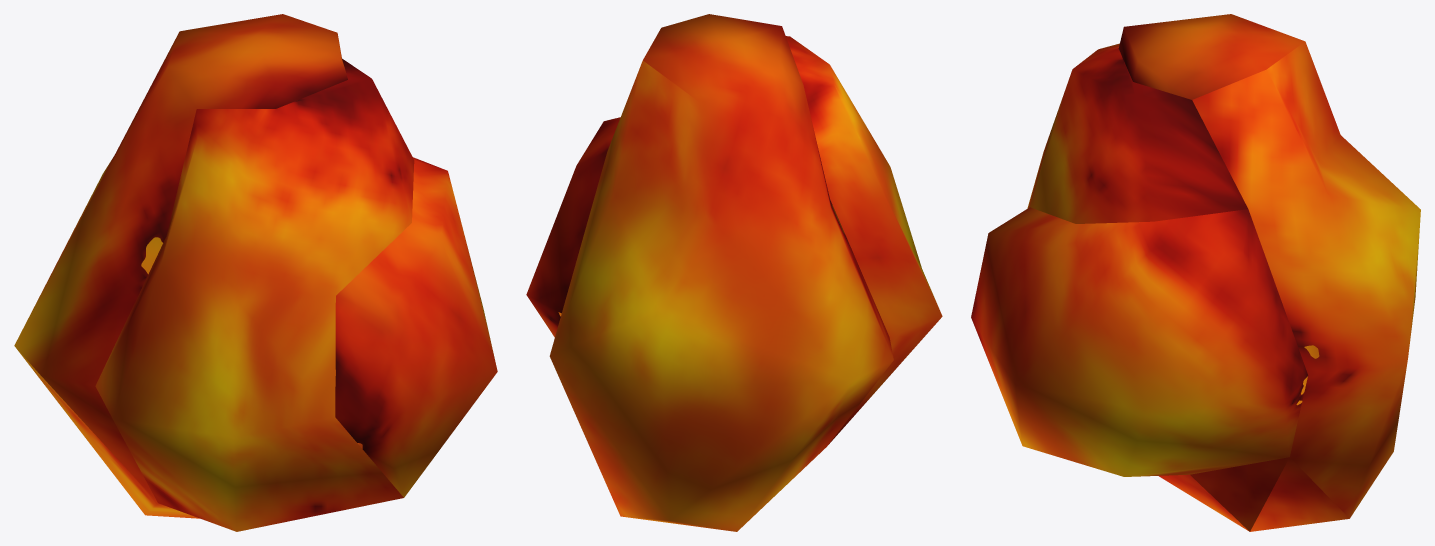
The model's file is fx_fbx_x_102_aerolite02.FBX.
3 views of the same model, side by side, from view 1: azimuth 30°, elevation 25°; view 2: azimuth 150°, elevation 25°; view 3: azimuth 270°, elevation 25° (orthographic). The views are drawn at different scales.
Visible parts, largest first — view 1: Rock05; view 2: Rock05; view 3: Rock05.
Part boxes in pixels (<box>): Rock05: <box>14,14,497,531</box>; Rock05: <box>526,14,942,531</box>; Rock05: <box>971,14,1420,531</box>.
Size of the model in its own units: 234 by 234 by 282.
1 material, 1 textured.
